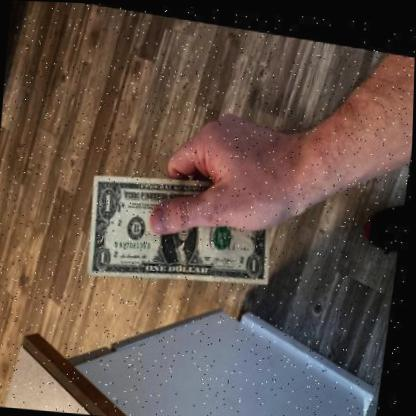dollar_front: (83, 158, 285, 298)
